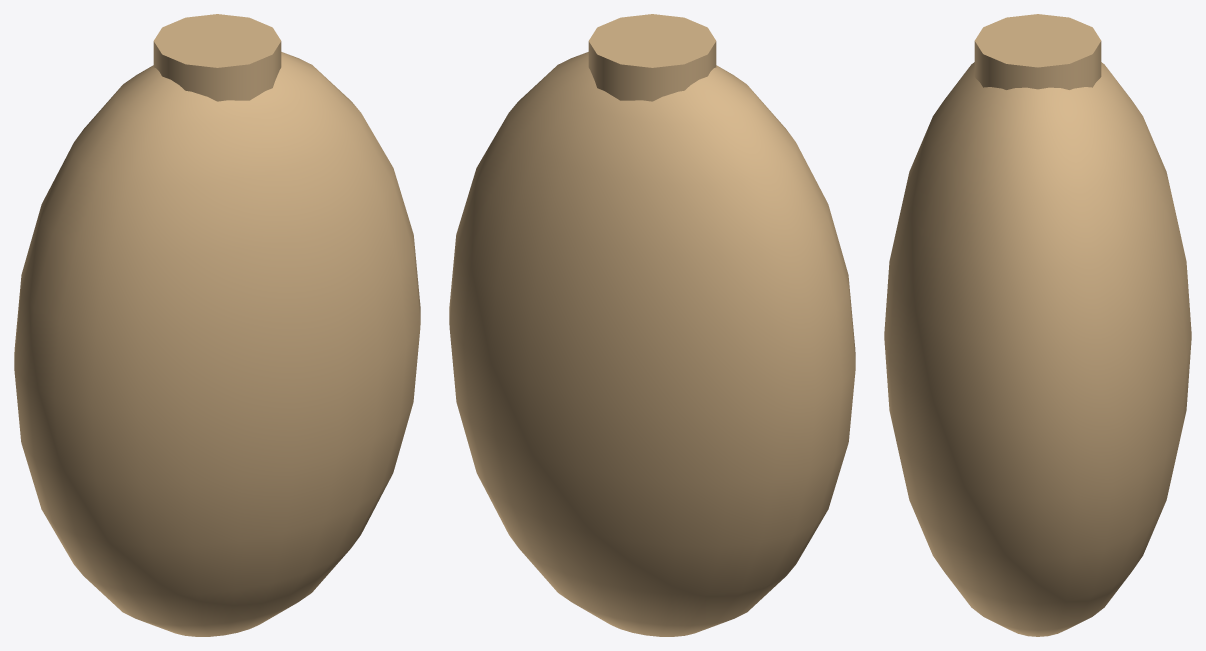
File: Grain_Sack.fbx
3 views of the same model, side by side, from view 1: azimuth 30°, elevation 25°; view 2: azimuth 150°, elevation 25°; view 3: azimuth 270°, elevation 25° (orthographic).
Visible parts, largest first — view 1: Grain_Sack_Cardboard; view 2: Grain_Sack_Cardboard; view 3: Grain_Sack_Cardboard.
Part boxes in pixels (bbox=[...]): Grain_Sack_Cardboard: bbox=[14, 14, 420, 636]; Grain_Sack_Cardboard: bbox=[449, 14, 855, 636]; Grain_Sack_Cardboard: bbox=[884, 14, 1191, 636].
Bounding box in the file's own units: 48 × 71 × 34.
